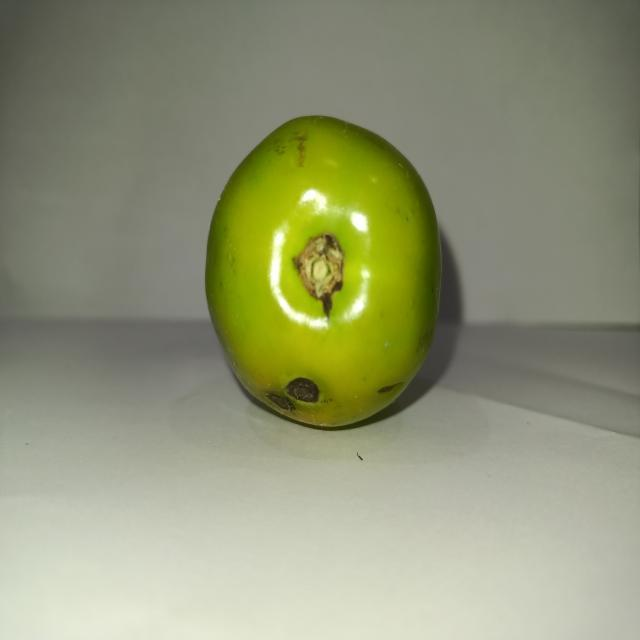Red: (203, 113, 443, 430)
